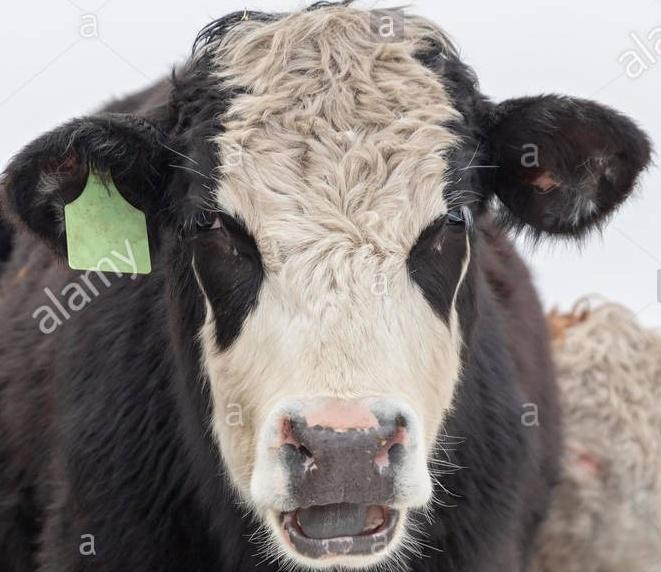muzzles: (241, 385, 440, 507)
